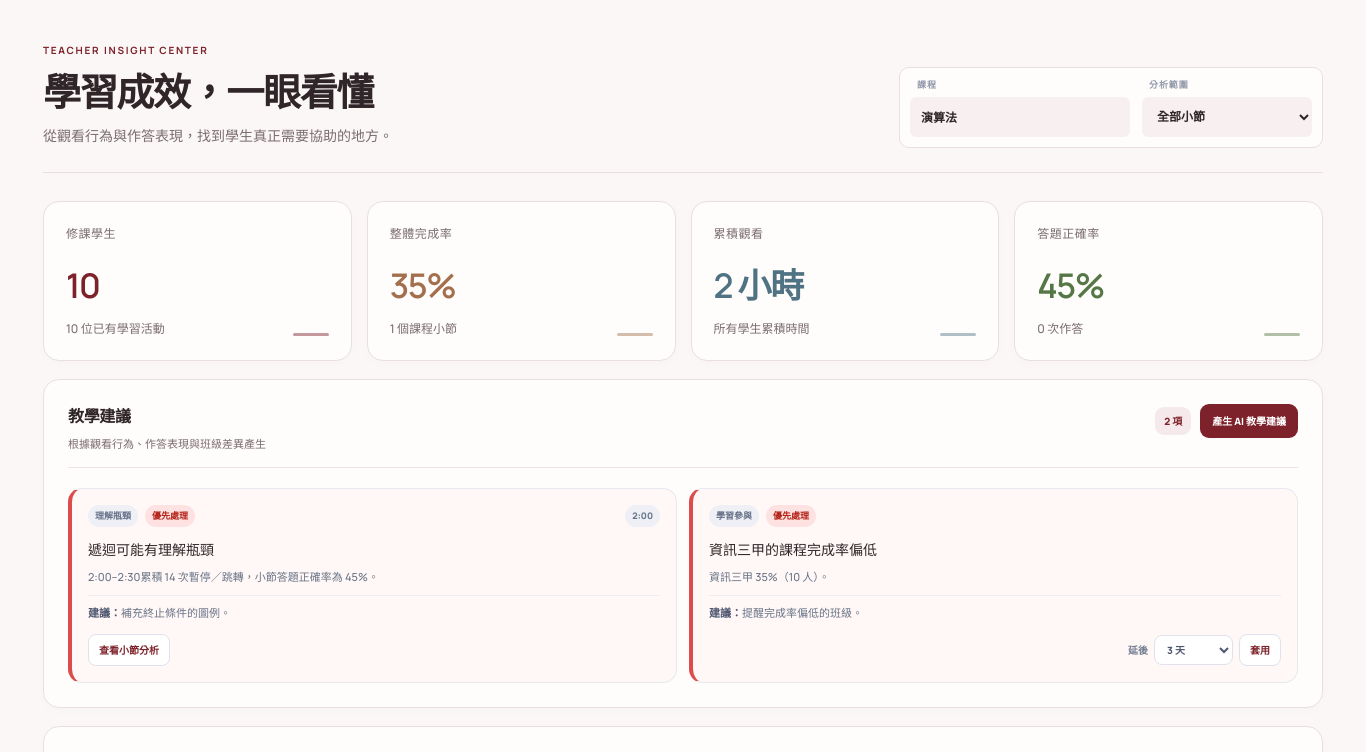
Test case: shows evidence-based teaching recommendations and opens the related scope
The image size is (1366, 752).
Expected: the heading "遞迴可能有理解瓶頸" is shown, [88,540,214,559]
Expected: the text "2:00–2:30累積 14 次暫停／跳轉，小節答題正確率為 45%。" is shown, [88,569,379,584]
Click the button "查看小節分析" at (129, 650), box [88,634,170,666]
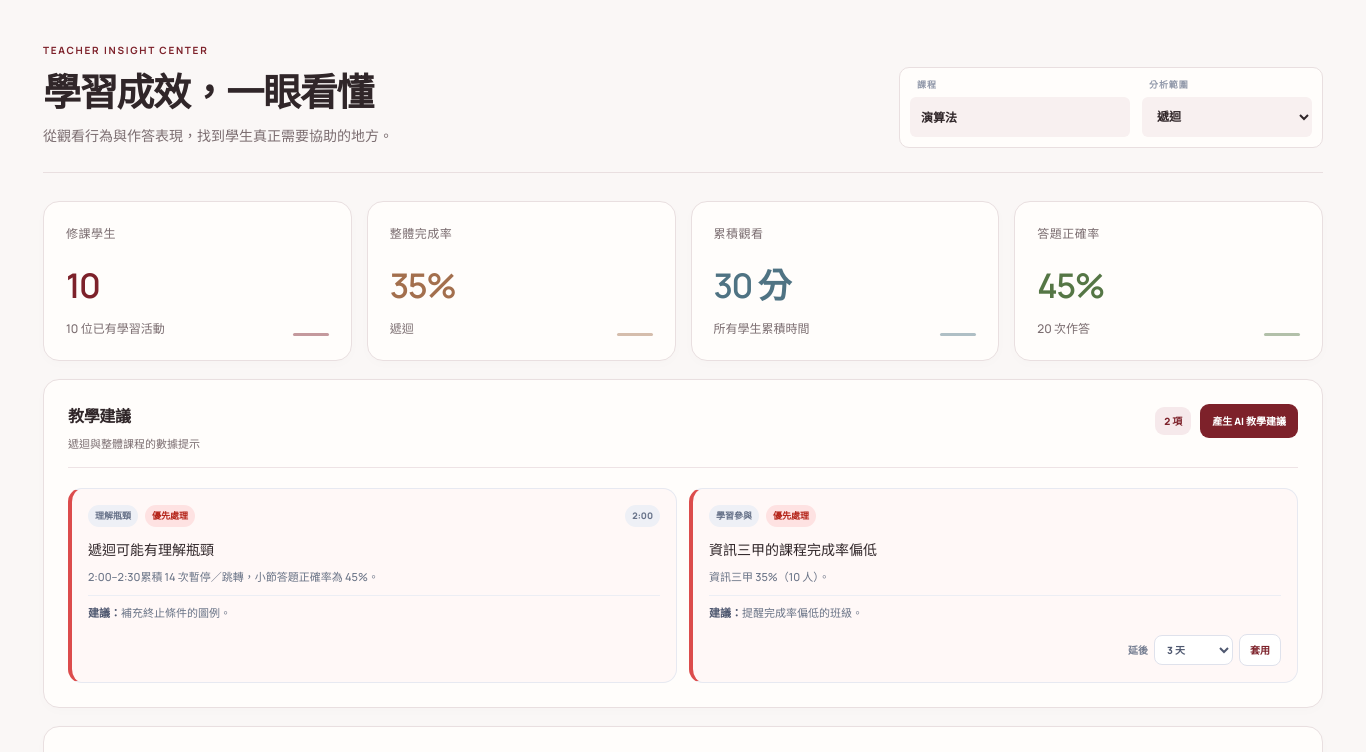
Now the dropdown labelled "分析範圍" shows "遞迴", box [1142,97,1312,137]
Select "7 天" in the dropdown named "延後重新計算 資訊三甲的課程完成率偏低" at (1194, 650), box [1154,635,1233,665]
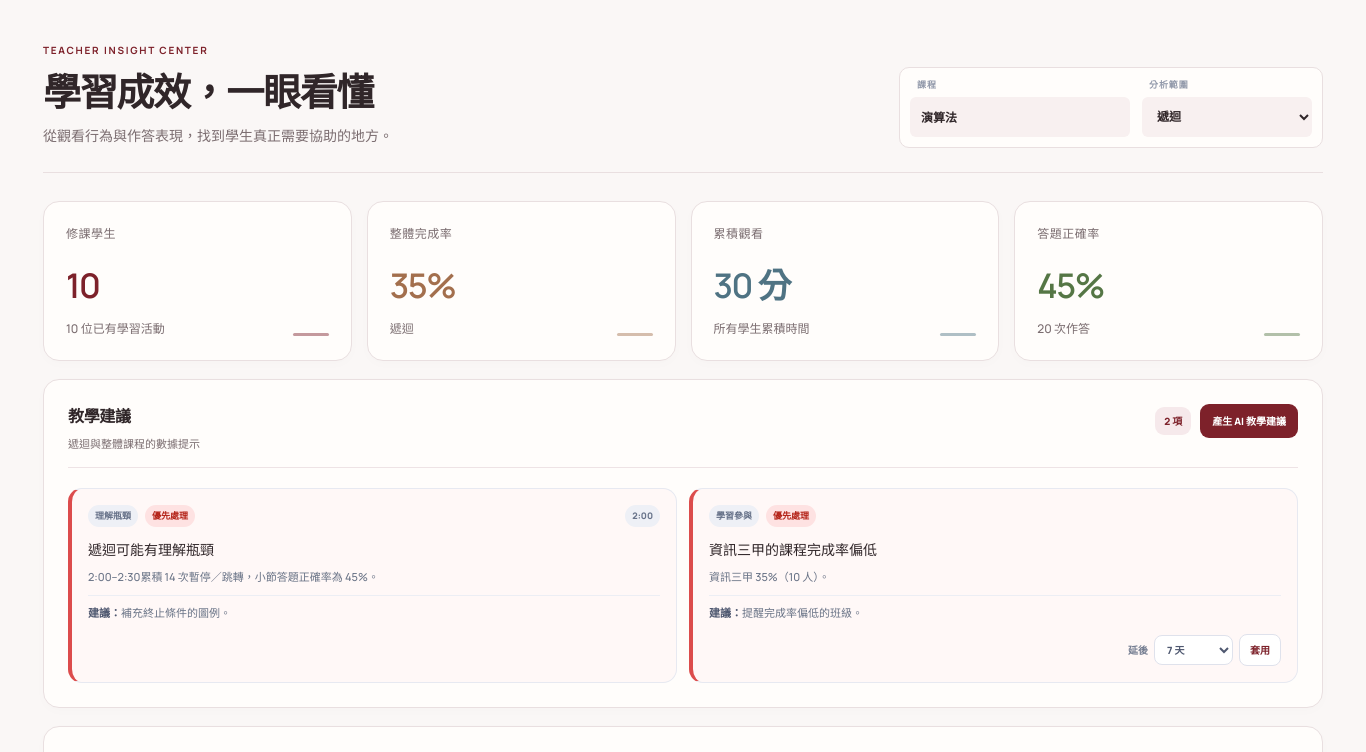
Click the button "套用" at (1260, 650), box [1239,634,1281,666]
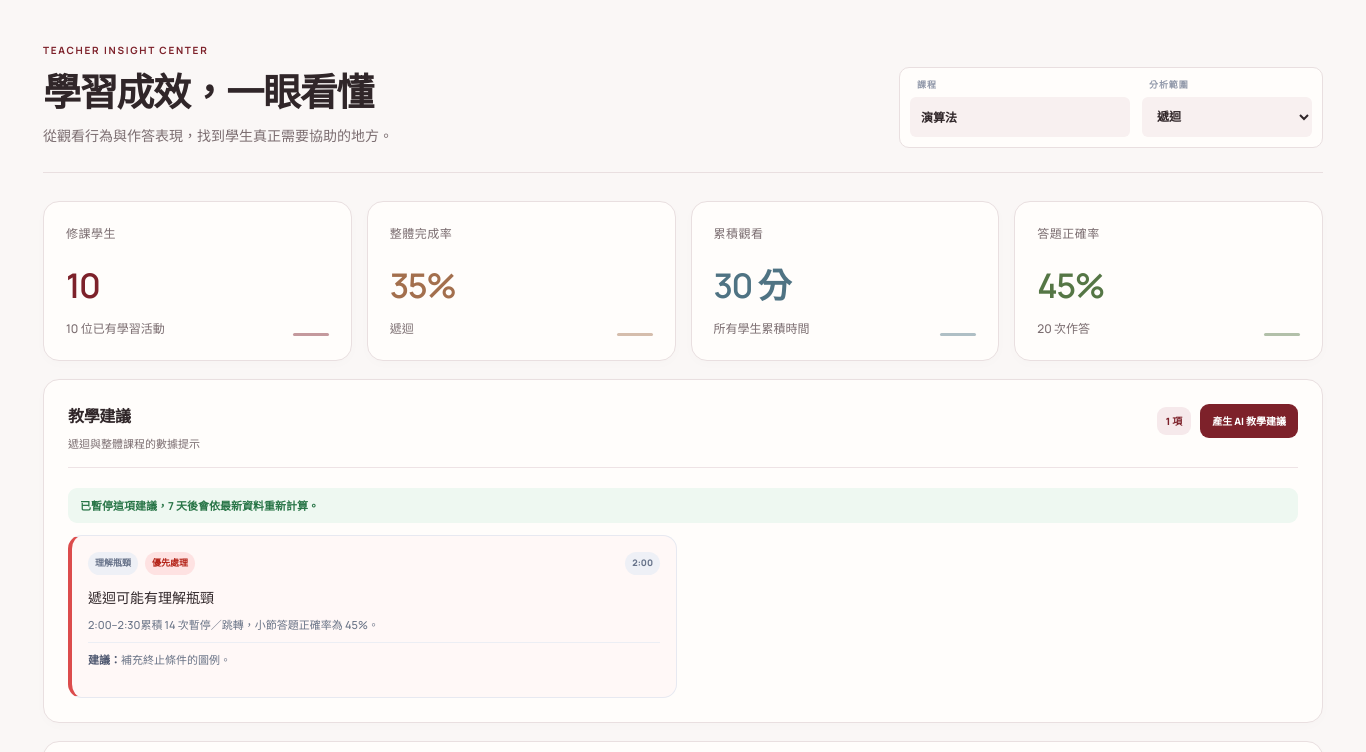
Expected: the heading "遞迴可能有理解瓶頸" is shown, [88,588,214,607]
Now the text "已暫停這項建議，7 天後會依最新資料重新計算。" is shown, box [68,488,1298,523]
Now the heading "資訊三甲的課程完成率偏低" is gone
